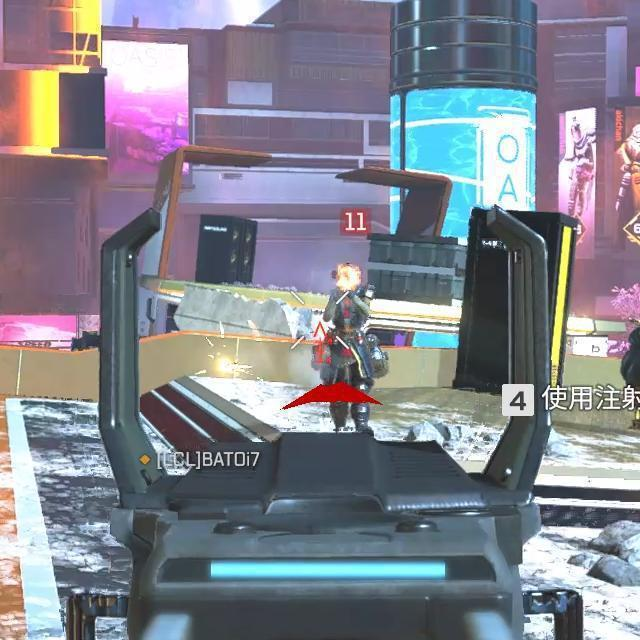avatar: (317, 265, 377, 433)
object: (334, 262, 363, 294)
